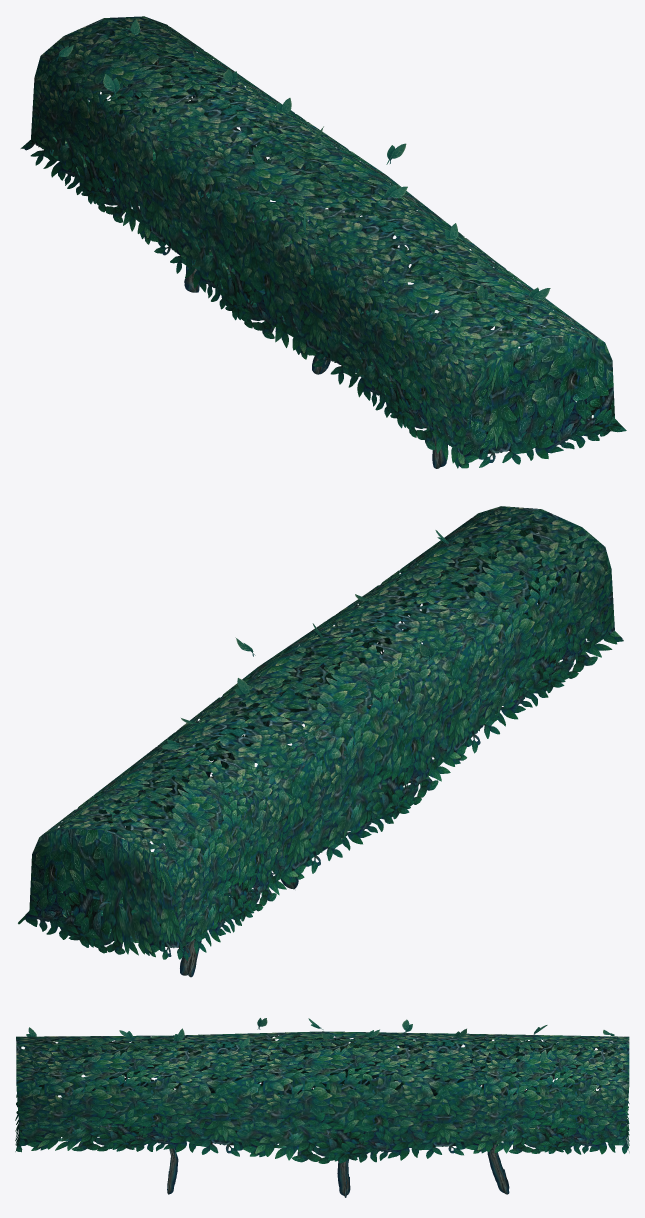
3 renders of one model, top to bottom at view 1: azimuth 30°, elevation 25°; view 2: azimuth 150°, elevation 25°; view 3: azimuth 270°, elevation 25°, orthographic. The views are drawn at different scales.
Size of the model in its own units: 3.8 by 4.45 by 15.34.
Materials: 1 (1 with a texture image).
